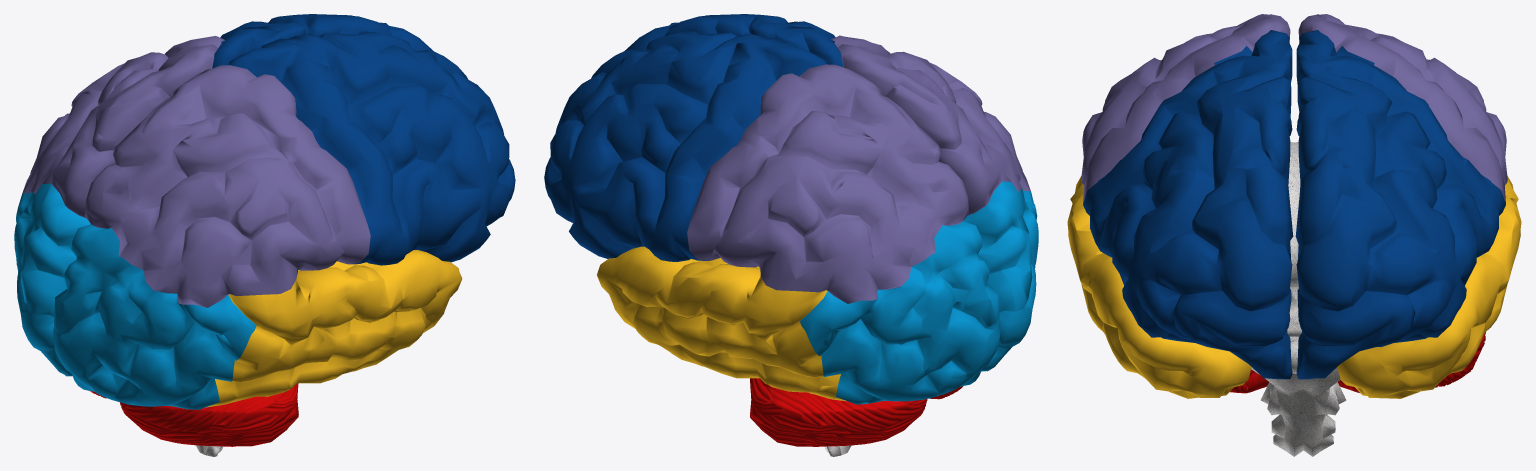
3 views of the same model, side by side, from view 1: azimuth 30°, elevation 25°; view 2: azimuth 150°, elevation 25°; view 3: azimuth 270°, elevation 25° (orthographic). The views are drawn at different scales.
Visible parts, largest first — view 1: pariet (×2), frontal (×2), occipit (×2), temp, cereb; view 2: pariet (×2), frontal (×2), occipit (×2), temp, cereb; view 3: frontal (×2), temp (×2), pariet (×2), stem, corpus, cereb.
Part boxes in pixels (left/top/right/bottom): pariet (×2): left=22, top=36, right=370, bottom=307; frontal (×2): left=212, top=14, right=515, bottom=265; occipit (×2): left=14, top=183, right=256, bottom=409; temp: left=205, top=250, right=462, bottom=407; cereb: left=90, top=383, right=298, bottom=446; pariet (×2): left=687, top=35, right=1030, bottom=303; frontal (×2): left=544, top=14, right=843, bottom=261; occipit (×2): left=799, top=181, right=1038, bottom=404; temp: left=597, top=246, right=846, bottom=401; cereb: left=750, top=378, right=963, bottom=446; frontal (×2): left=1083, top=30, right=1505, bottom=379; temp (×2): left=1067, top=176, right=1521, bottom=398; pariet (×2): left=1081, top=14, right=1507, bottom=203; stem: left=1251, top=287, right=1346, bottom=456; corpus: left=1288, top=142, right=1300, bottom=287; cereb: left=1230, top=332, right=1485, bottom=393.
Size of the model in its own units: 6.42 by 5.28 by 5.62.
